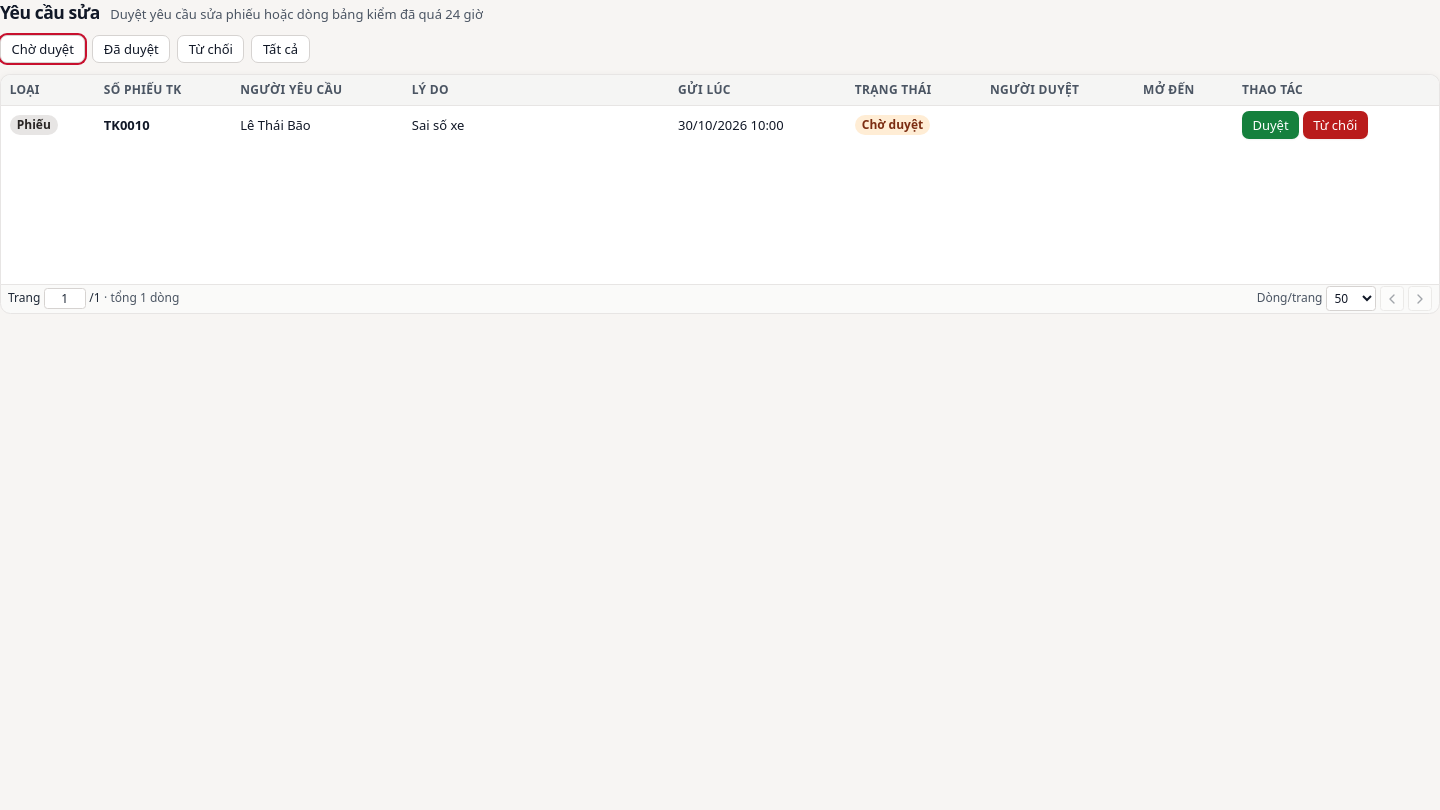
it: EditRequestsPage (D-019) › Duyệt: mở hộp thoại, gọi decide_edit_request(p_approve true, ghi chú trống → null), báo thành công
Click the button with test id "approve-1" at point(1271, 125), box [1242,111,1299,139]
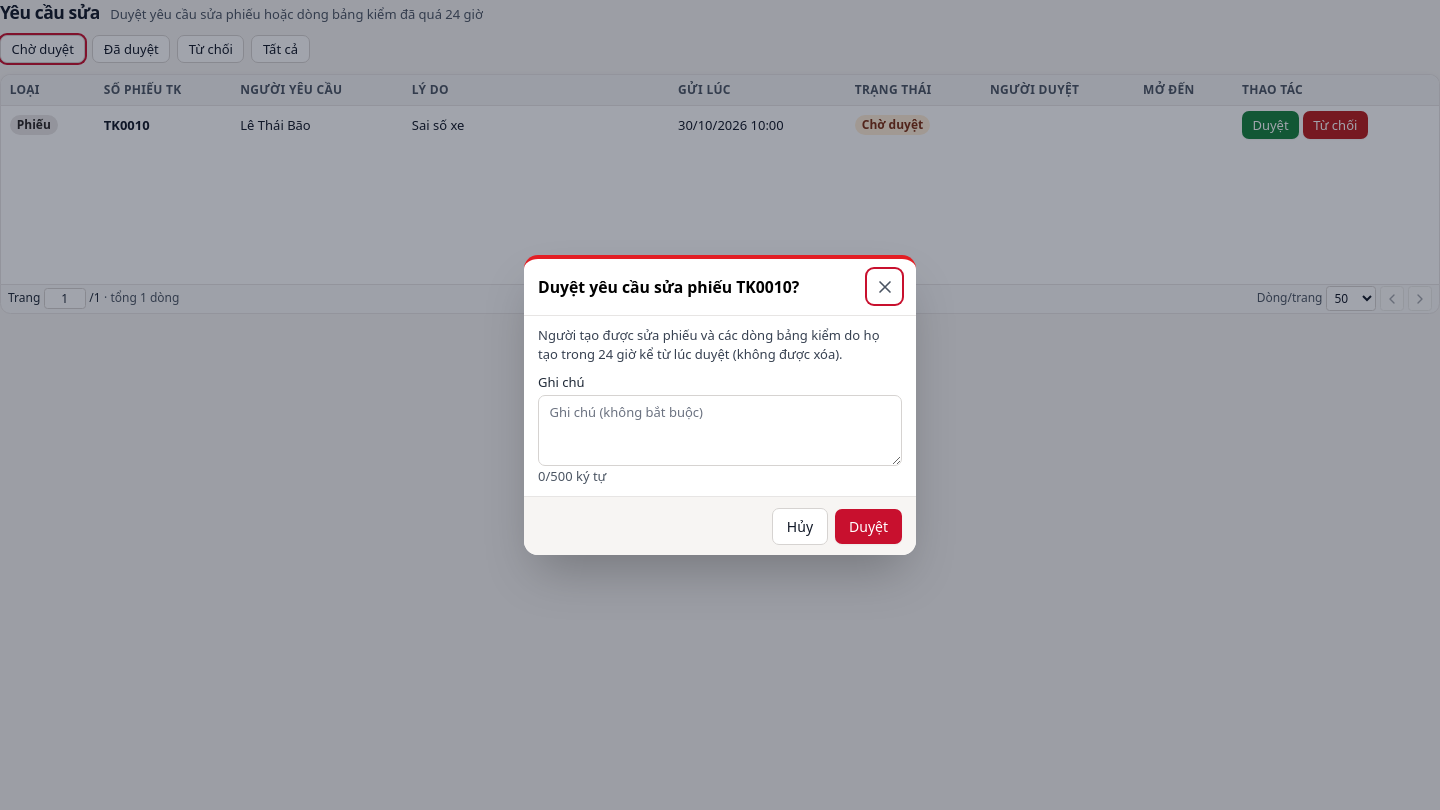
Click the button with test id "decide-modal-submit" at point(868, 526), box [835,509,902,544]
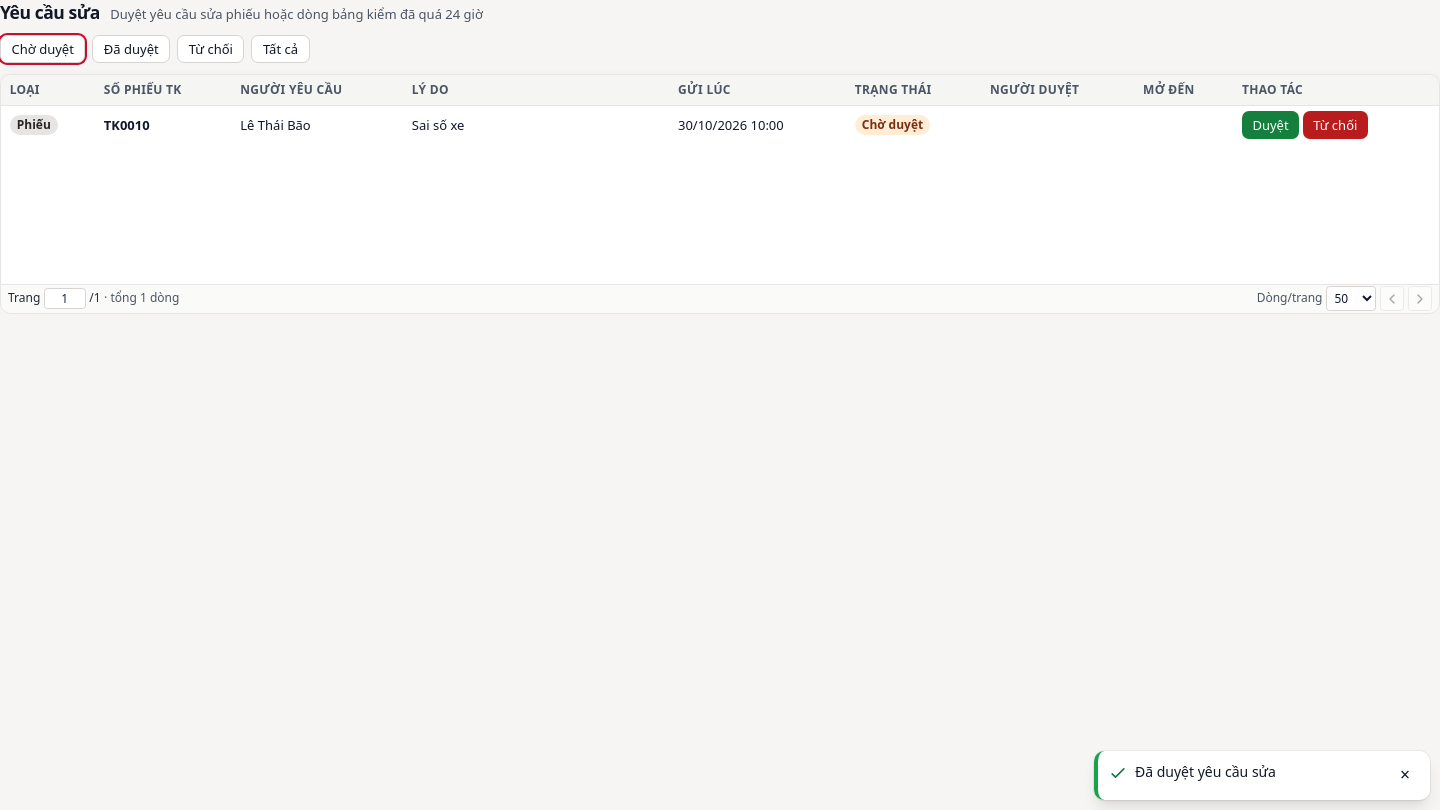
Check: the message with test id "toast-success" shows "Đã duyệt", box [1135,762,1276,781]
